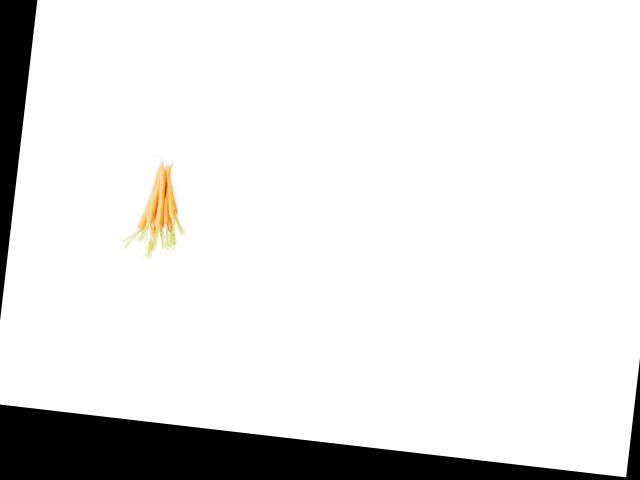carrot: (156, 166, 186, 222)
